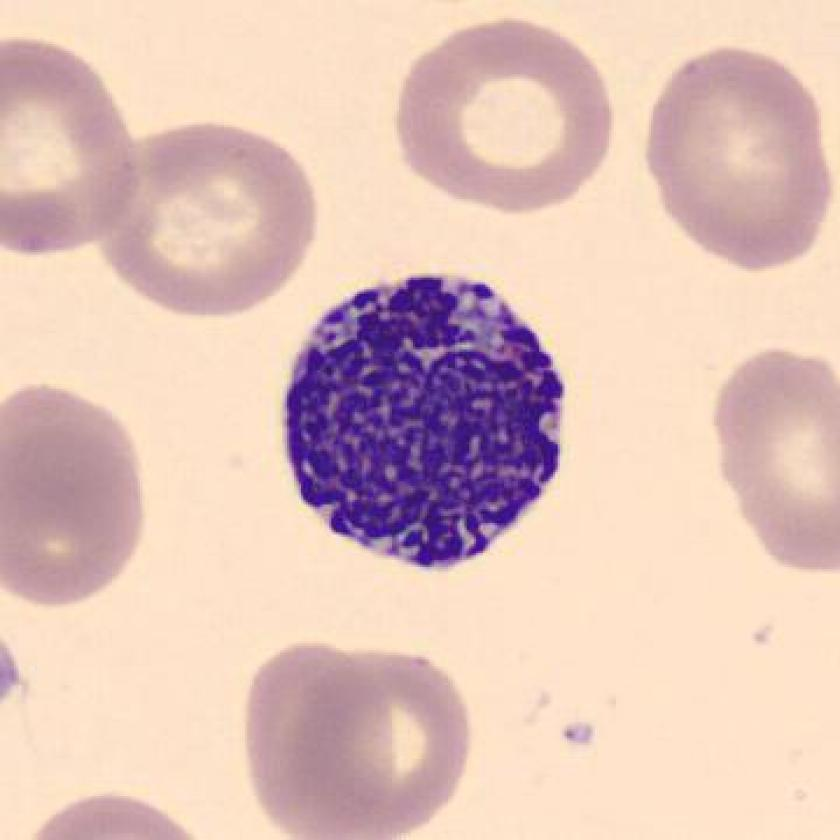basophil: (269, 253, 594, 591)
